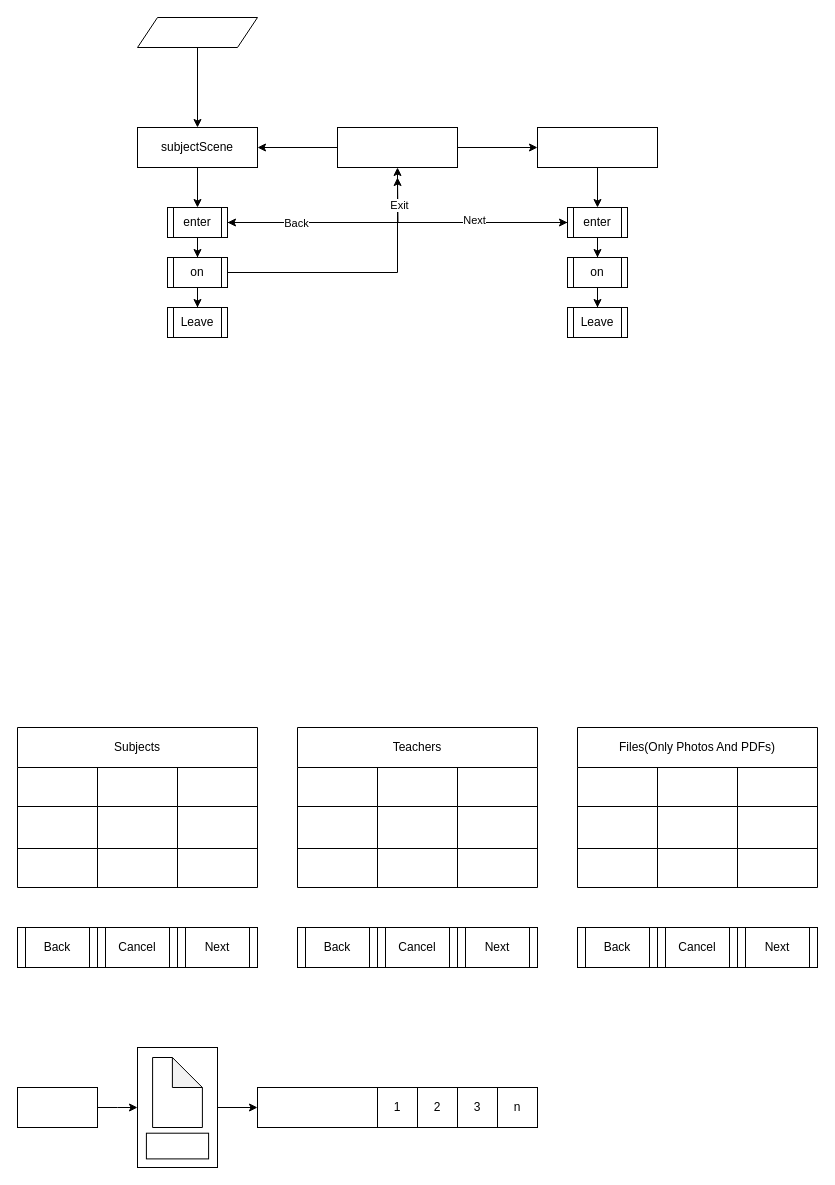
The diagram is 835 pixels wide and 1185 high, and some of its shapes have lost their labels. Each missing label, with the centre of its shape:
/find: (x=197, y=32)
API: (x=57, y=1107)
Files: (x=177, y=1092)
Stage: (x=397, y=147)
Storage: (x=317, y=1107)
teacherScene: (x=597, y=147)
Token: (x=177, y=1145)
